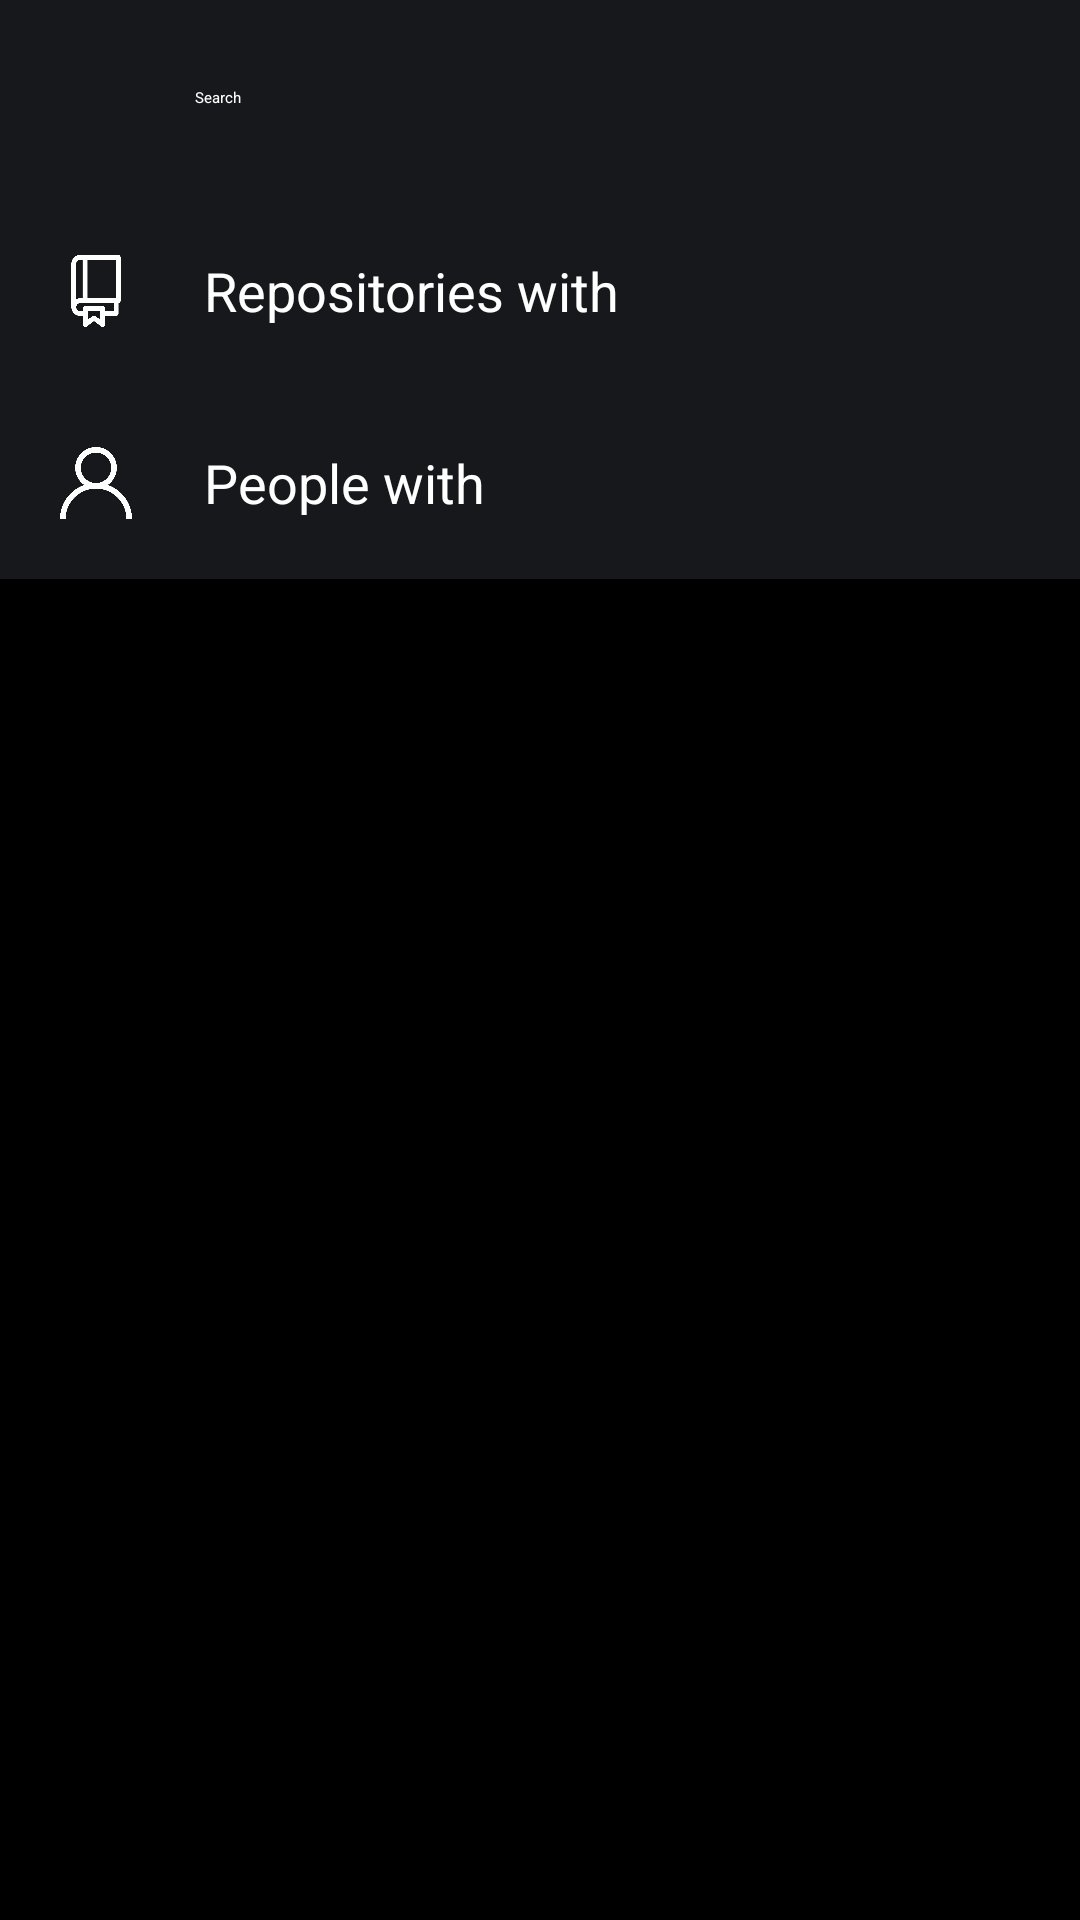

Icons on this 1080*1920 Android screen, each with the point to tap as (x,y):
book: (96,291)
profile: (96,483)
